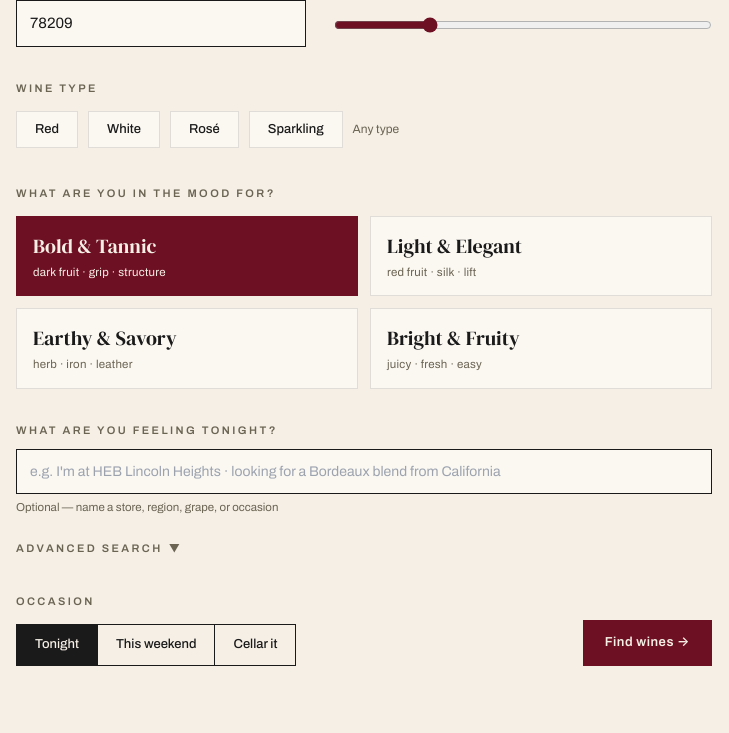
shows varietal chips after clicking Advanced search toggle
This screenshot has width=729, height=733.
(page scrolled)
Click the button "Advanced search ▼": {"x": 98, "y": 548} [16,540,180,556]
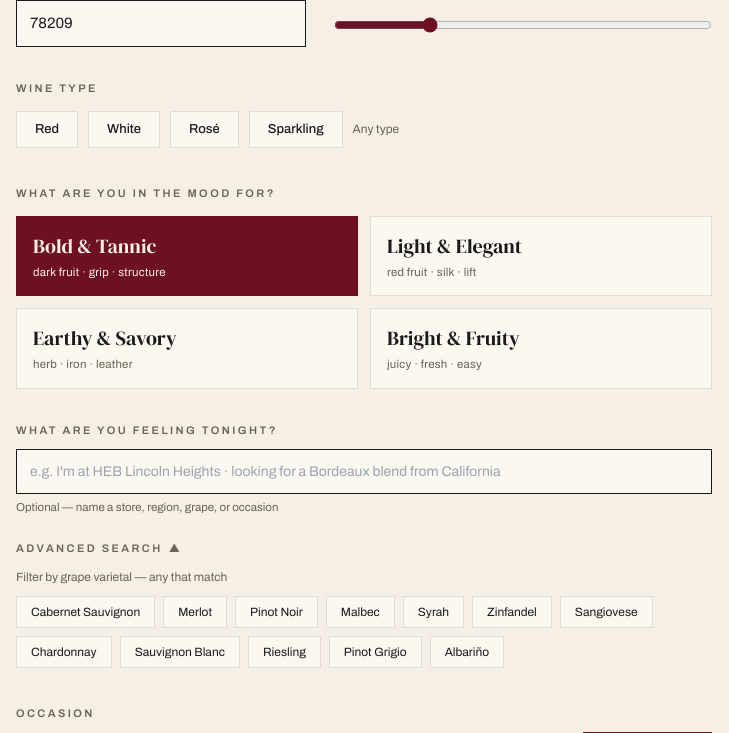
Check: the button "Cabernet Sauvignon" is shown, box [16,596,155,628]
Check: the button "Chardonnay" is shown, box [16,636,112,668]
